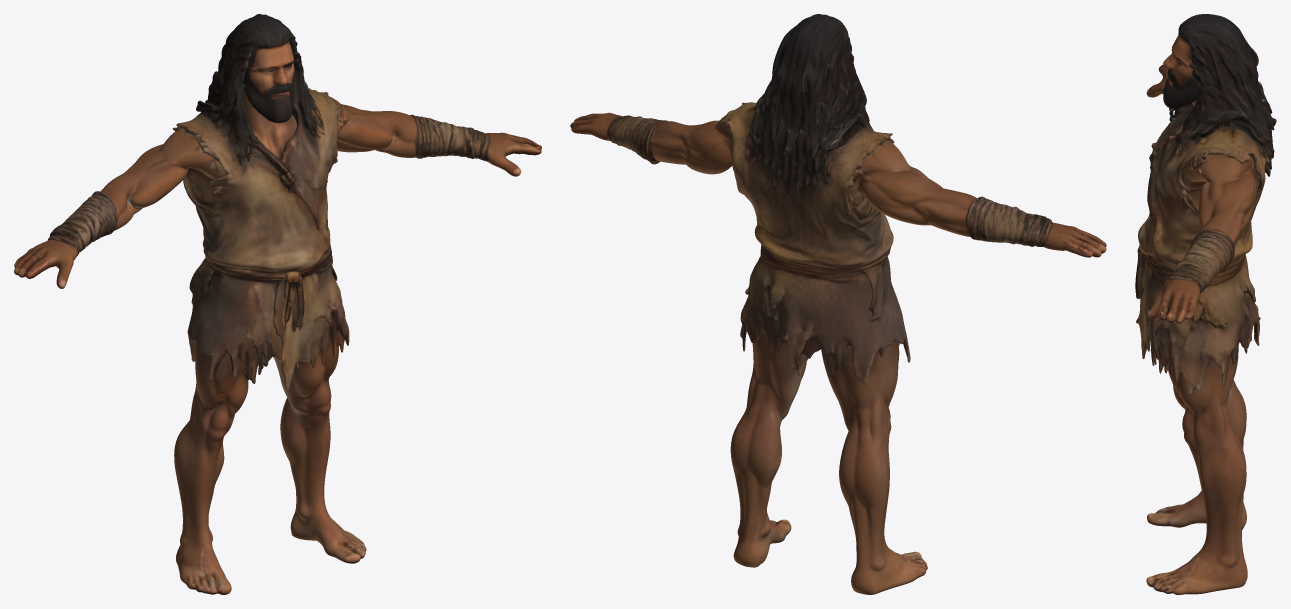
The model's file is guerrero.glb.
3 renders of one model, left to right at view 1: azimuth 30°, elevation 25°; view 2: azimuth 150°, elevation 25°; view 3: azimuth 270°, elevation 25°, orthographic.
Parts seen in each view (by area): view 1: tripo_node_279920e4-d205-45f1-97ca-4c621f3048ff; view 2: tripo_node_279920e4-d205-45f1-97ca-4c621f3048ff; view 3: tripo_node_279920e4-d205-45f1-97ca-4c621f3048ff.
Boxes of the visible parts, x1=… form: tripo_node_279920e4-d205-45f1-97ca-4c621f3048ff: x1=14, y1=14, x2=541, y2=594; tripo_node_279920e4-d205-45f1-97ca-4c621f3048ff: x1=570, y1=14, x2=1106, y2=594; tripo_node_279920e4-d205-45f1-97ca-4c621f3048ff: x1=1135, y1=14, x2=1276, y2=594.
Size of the model in its own units: 1 by 0.9857 by 0.2339.
1 material, 1 textured.
